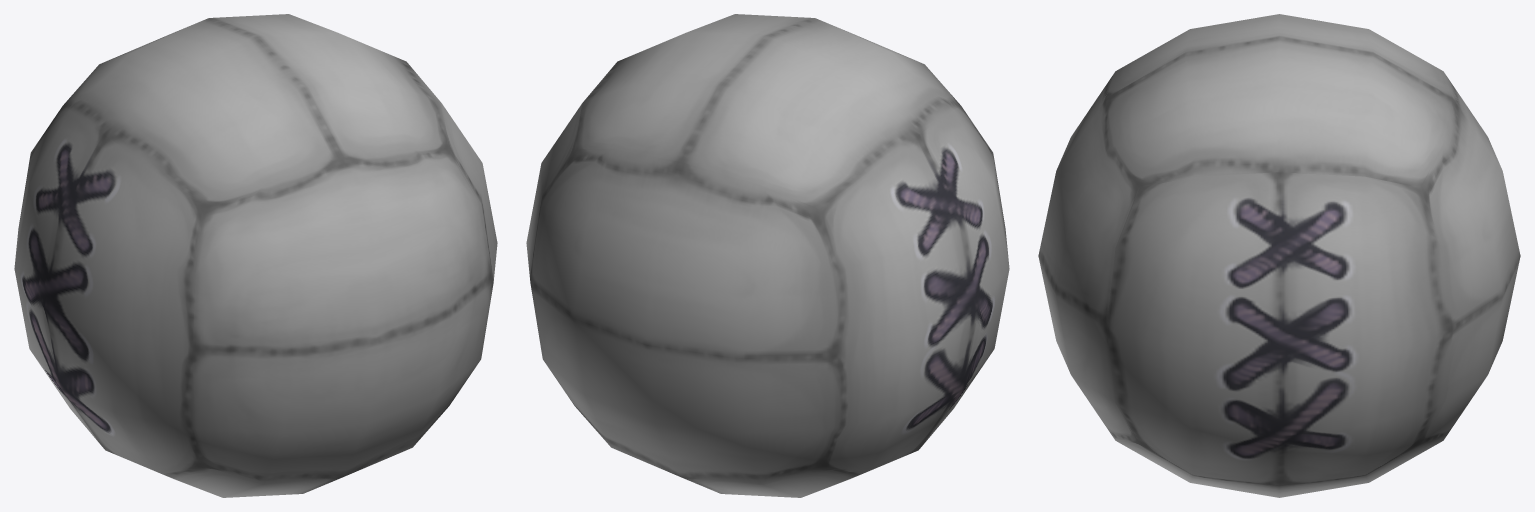
File: ball_01.fbx
3 renders of one model, left to right at view 1: azimuth 30°, elevation 25°; view 2: azimuth 150°, elevation 25°; view 3: azimuth 270°, elevation 25°, orthographic.
Parts seen in each view (by area): view 1: ball_01; view 2: ball_01; view 3: ball_01.
Part boxes in pixels (x1,y1,x2,y2): ball_01: (14, 14, 497, 497); ball_01: (526, 14, 1009, 497); ball_01: (1038, 14, 1520, 497).
Bounding box in the file's own units: 43.15 × 43.15 × 43.15.
